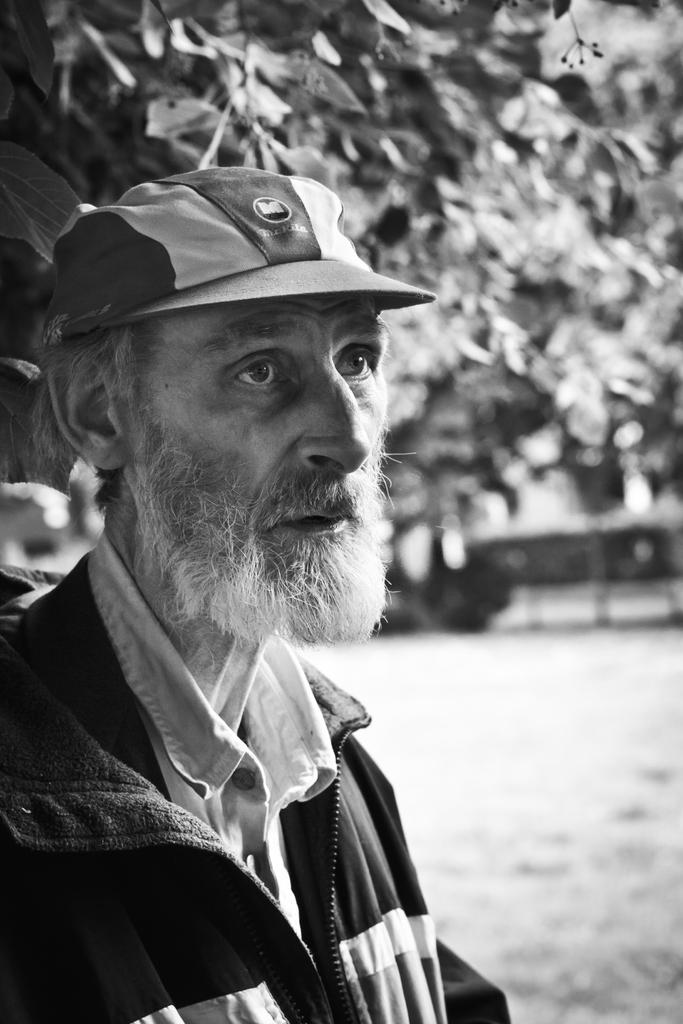Hat: (40, 162, 434, 344)
